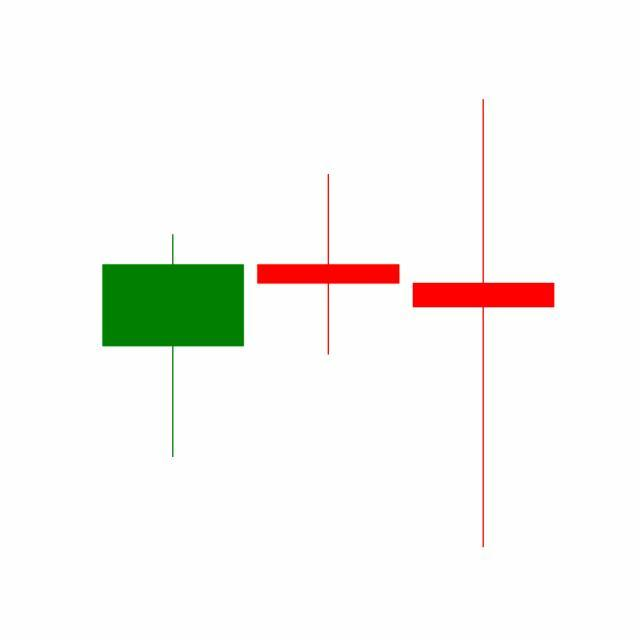Spinning Top: (250, 173, 407, 358)
